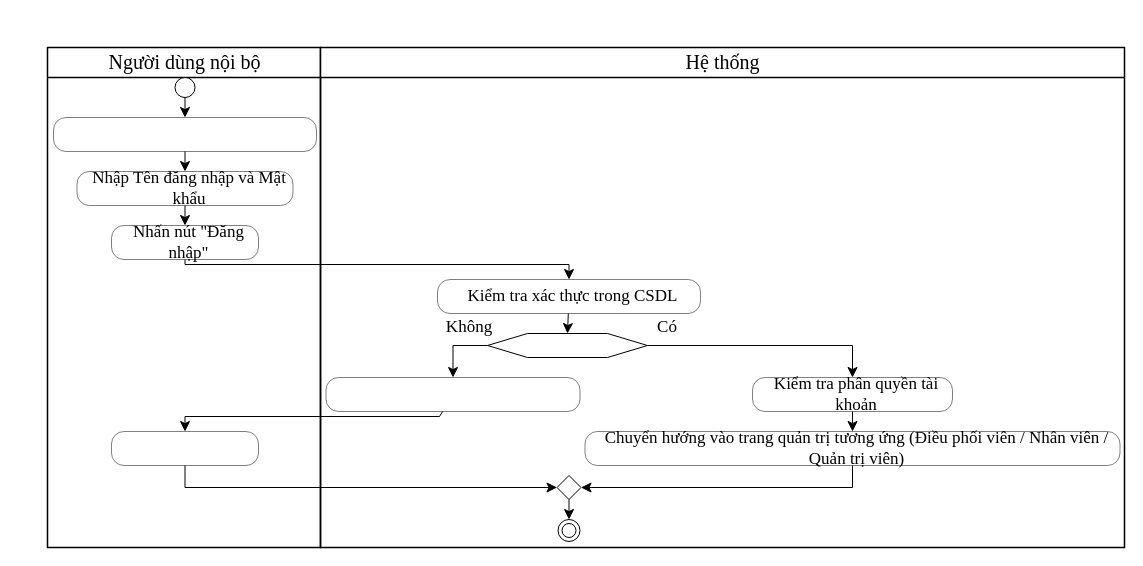
Some shapes in this 1143 by 566 pixel diagram are drawn without their labels. Each missing label, with the centre of its shape:
Báo lỗi sai tài khoản hoặc mật khẩu: (452,394)
Nhập lại thông tin: (184,448)
Thông tin hợp lệ?: (567,345)
Truy cập chức năng "Đăng nhập hệ thống": (184,134)
